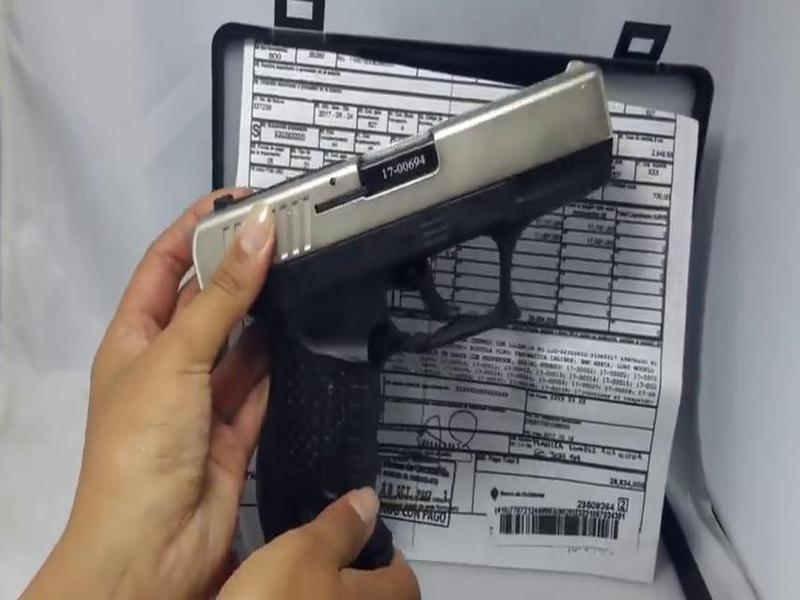Pistola: (175, 54, 620, 553)
